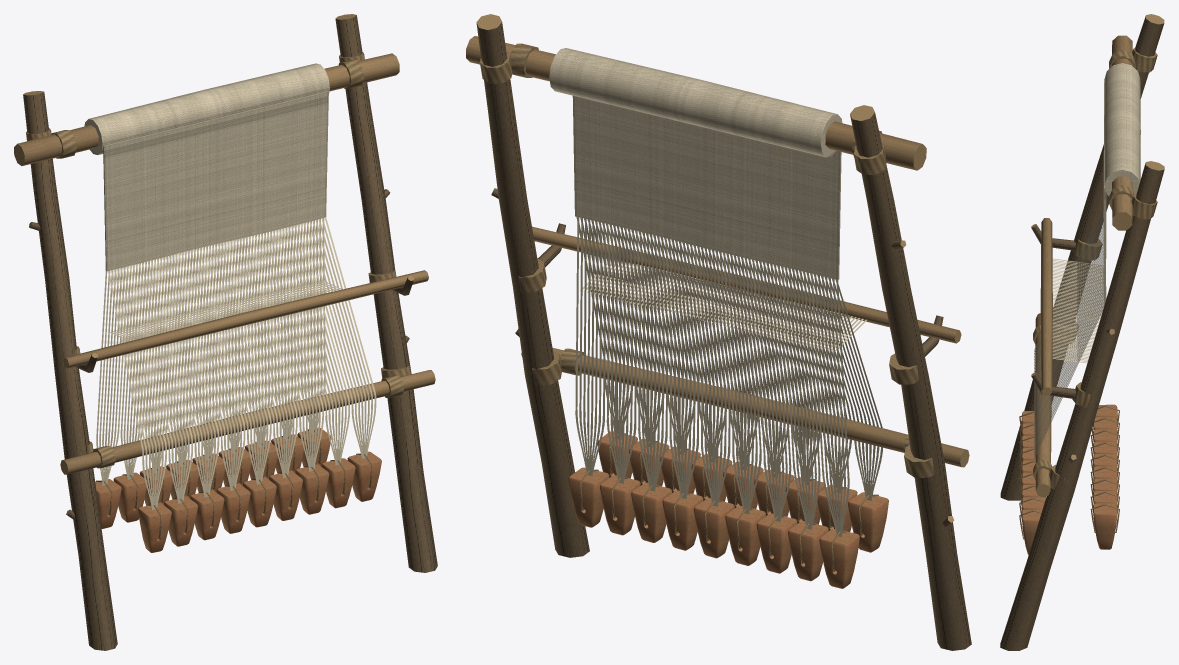
File: loom_weaving_base_up.glb
The picture shows the model from 3 angles, left to right: view 1: azimuth 30°, elevation 25°; view 2: azimuth 150°, elevation 25°; view 3: azimuth 270°, elevation 25°; orthographic projection. The views are drawn at different scales.
Visible parts, largest first — view 1: warp, frame, cloth, tie_loops, weight_09_front, weight_17_front, weight_15_front, weight_10_front, weight_11_front, weight_16_front, weight_13_front, weight_12_front (+10 smaller); view 2: warp, frame, cloth, tie_loops, weight_00_back, weight_09_front, weight_08_back, weight_04_back, weight_03_back, weight_01_back, weight_05_back, weight_02_back (+10 smaller); view 3: frame, warp, cloth, tie_loops, weight_08_back, weight_17_front, weight_03_back, weight_05_back, weight_02_back, weight_07_back, weight_06_back, weight_04_back (+3 smaller).
Boxes of the visible parts, left/top/right/bottom form: warp: left=96, top=217, right=376, bottom=510; frame: left=14, top=14, right=437, bottom=650; cloth: left=84, top=63, right=329, bottom=271; tie_loops: left=95, top=429, right=372, bottom=539; weight_09_front: left=138, top=503, right=171, bottom=552; weight_17_front: left=347, top=451, right=381, bottom=501; weight_15_front: left=295, top=464, right=329, bottom=514; weight_10_front: left=164, top=496, right=197, bottom=546; weight_11_front: left=190, top=490, right=224, bottom=540; weight_16_front: left=321, top=458, right=355, bottom=508; weight_13_front: left=243, top=477, right=276, bottom=527; weight_12_front: left=216, top=483, right=250, bottom=533; warp: left=575, top=217, right=882, bottom=536; frame: left=466, top=14, right=971, bottom=650; cloth: left=549, top=48, right=842, bottom=279; tie_loops: left=579, top=433, right=878, bottom=572; weight_00_back: left=819, top=529, right=859, bottom=588; weight_09_front: left=848, top=492, right=888, bottom=552; weight_08_back: left=568, top=467, right=609, bottom=527; weight_04_back: left=693, top=498, right=734, bottom=558; weight_03_back: left=725, top=505, right=765, bottom=565; weight_01_back: left=788, top=521, right=828, bottom=581; weight_05_back: left=662, top=490, right=703, bottom=550; weight_02_back: left=756, top=513, right=797, bottom=573; frame: left=1000, top=14, right=1164, bottom=650; warp: left=1034, top=207, right=1104, bottom=460; cloth: left=1103, top=63, right=1140, bottom=304; tie_loops: left=1019, top=405, right=1119, bottom=539; weight_08_back: left=1093, top=503, right=1117, bottom=549; weight_17_front: left=1021, top=509, right=1042, bottom=554; weight_03_back: left=1093, top=441, right=1117, bottom=455; weight_05_back: left=1093, top=466, right=1117, bottom=480; weight_02_back: left=1093, top=429, right=1117, bottom=442; weight_07_back: left=1093, top=491, right=1117, bottom=504; weight_06_back: left=1093, top=478, right=1117, bottom=492; weight_04_back: left=1093, top=454, right=1117, bottom=467.
Size of the model in its own units: 1.5 by 1.91 by 0.5915.
Materials: 3 (3 with a texture image).
